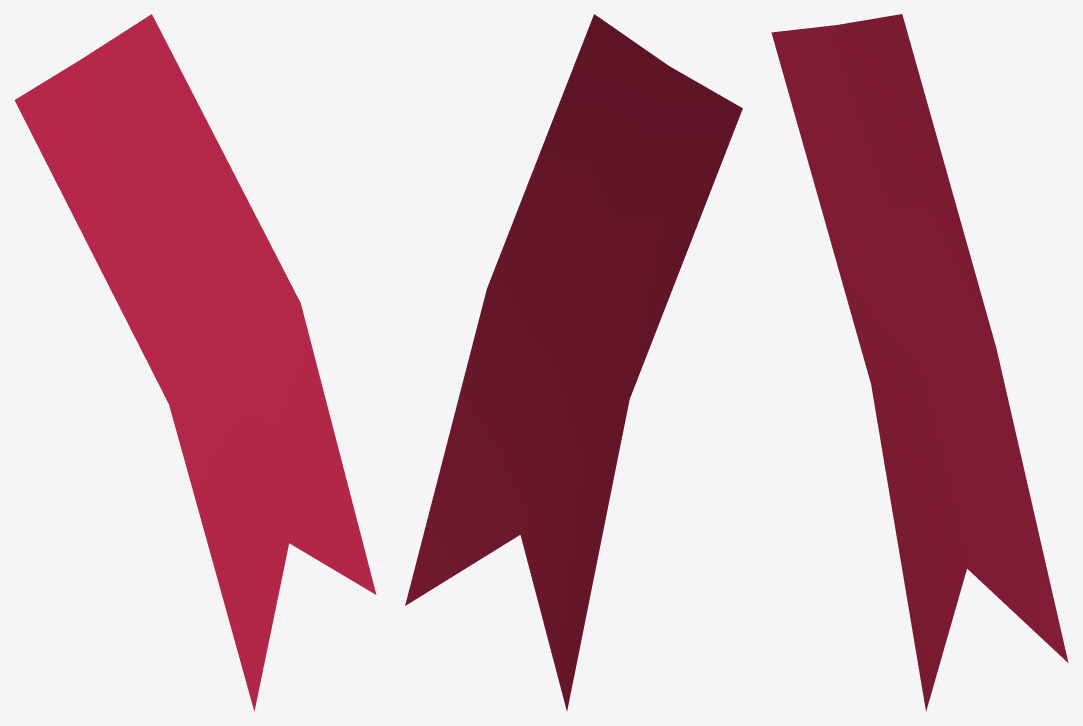
File: Pull_L.glb
3 views of the same model, side by side, from view 1: azimuth 30°, elevation 25°; view 2: azimuth 150°, elevation 25°; view 3: azimuth 330°, elevation 25° (orthographic). The views are drawn at different scales.
Parts seen in each view (by area): view 1: Noh.002; view 2: Noh.002; view 3: Noh.002.
Part boxes in pixels (<box>): Noh.002: <box>14,14,376,711</box>; Noh.002: <box>405,14,742,710</box>; Noh.002: <box>771,14,1068,711</box>.
Bounding box in the file's own units: 0.0665 × 0.1295 × 0.0138.
